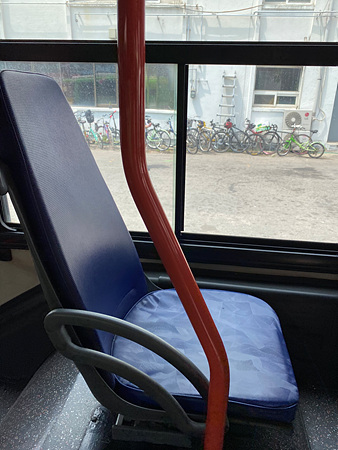seat: (4, 67, 301, 417)
